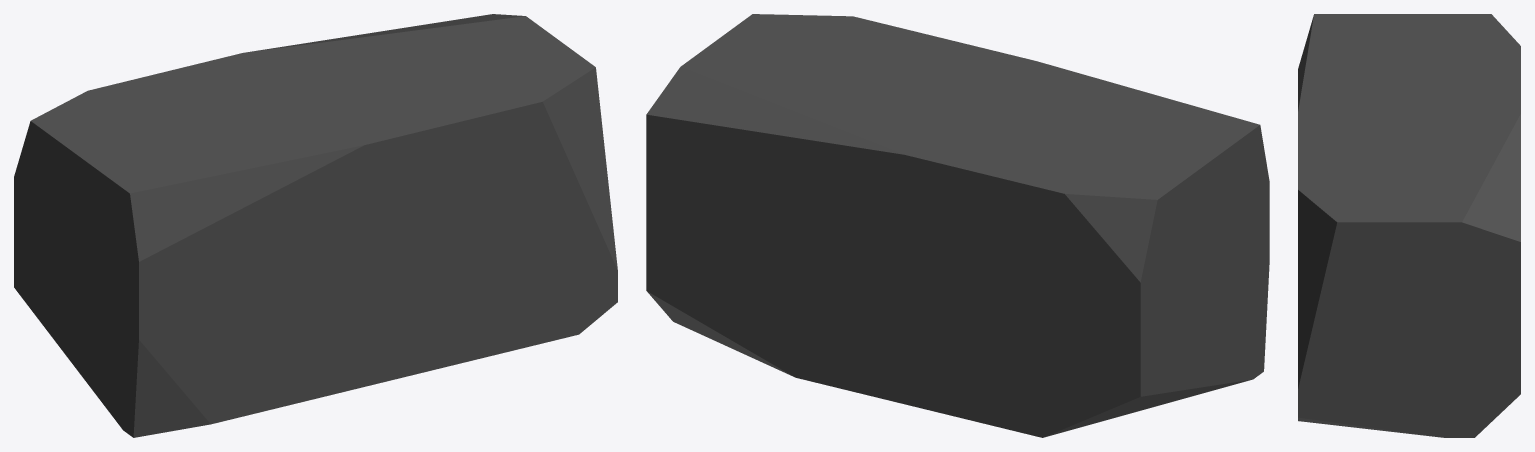
The model's file is Brick_A_09.FBX.
3 views of the same model, side by side, from view 1: azimuth 30°, elevation 25°; view 2: azimuth 150°, elevation 25°; view 3: azimuth 270°, elevation 25° (orthographic). The views are drawn at different scales.
Visible parts, largest first — view 1: Brick_A_09; view 2: Brick_A_09; view 3: Brick_A_09.
Boxes of the visible parts, x1,y1,x2,y2 form: Brick_A_09: (14,14,617,437); Brick_A_09: (646,14,1269,437); Brick_A_09: (1298,14,1520,437).
Size of the model in its own units: 2.75 by 1.33 by 1.24.
